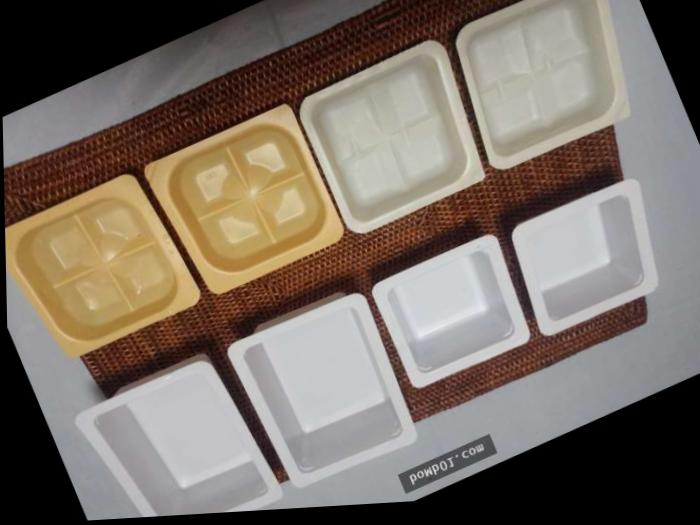plastic: (3, 0, 382, 165), (228, 294, 415, 504), (145, 105, 342, 292), (300, 41, 483, 232), (6, 175, 199, 356), (76, 356, 280, 516), (456, 0, 629, 169), (373, 235, 529, 386), (512, 179, 657, 334), (399, 434, 496, 492)
